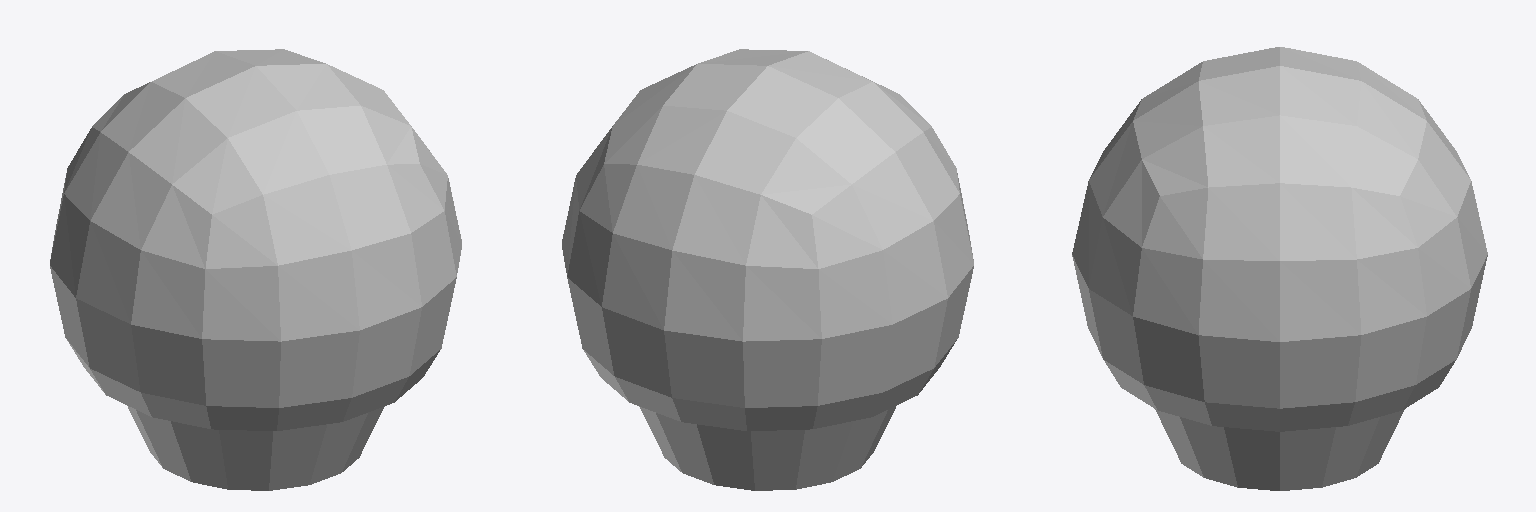
The model's file is MSphere_Engine.obj.
3 renders of one model, left to right at view 1: azimuth 30°, elevation 25°; view 2: azimuth 150°, elevation 25°; view 3: azimuth 270°, elevation 25°, orthographic.
Parts seen in each view (by area): view 1: LowPolyEngine_Cube; view 2: LowPolyEngine_Cube; view 3: LowPolyEngine_Cube.
Boxes of the visible parts, x1=… form: LowPolyEngine_Cube: x1=50, y1=49, x2=461, y2=490; LowPolyEngine_Cube: x1=562, y1=49, x2=973, y2=490; LowPolyEngine_Cube: x1=1072, y1=47, x2=1487, y2=490.
Size of the model in its own units: 0.4307 by 0.4345 by 0.4307.